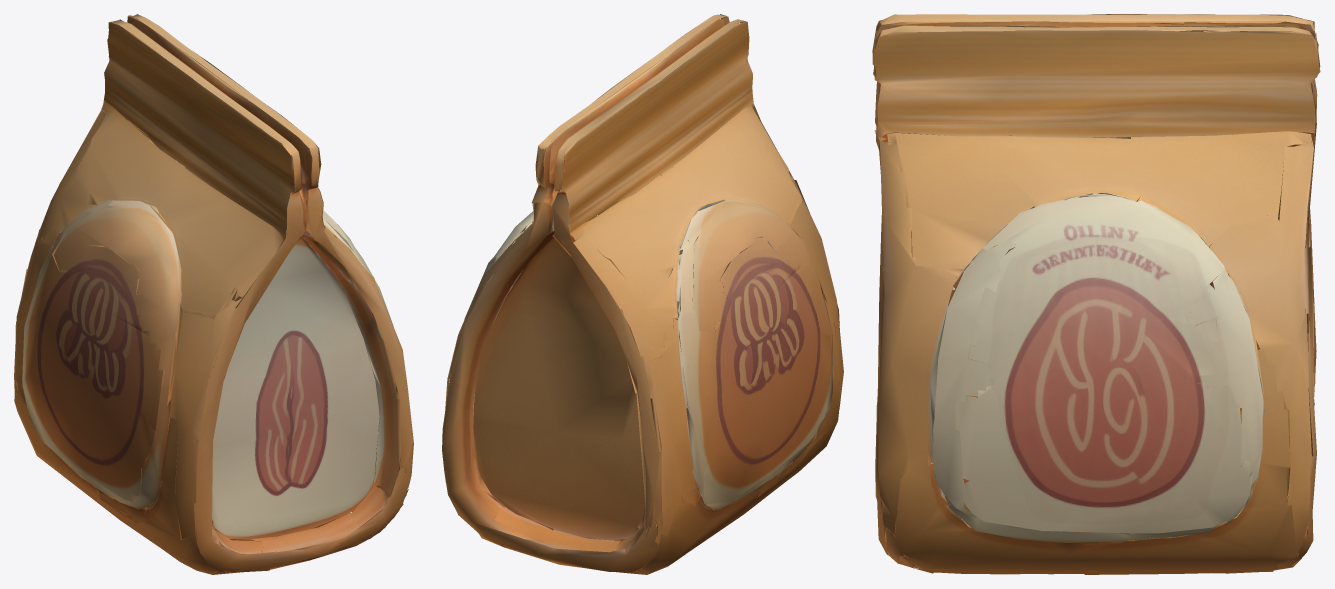
Rendered from P_Jerky_h14.fbx.
3 renders of one model, left to right at view 1: azimuth 30°, elevation 25°; view 2: azimuth 150°, elevation 25°; view 3: azimuth 270°, elevation 25°, orthographic. The views are drawn at different scales.
Parts seen in each view (by area): view 1: P_Jerky; view 2: P_Jerky; view 3: P_Jerky.
Boxes of the visible parts, x1=… form: P_Jerky: x1=14, y1=14, x2=413, y2=574; P_Jerky: x1=442, y1=14, x2=843, y2=574; P_Jerky: x1=872, y1=14, x2=1320, y2=574.
Size of the model in its own units: 0.6512 by 1 by 0.8019.
Materials: 1 (1 with a texture image).
